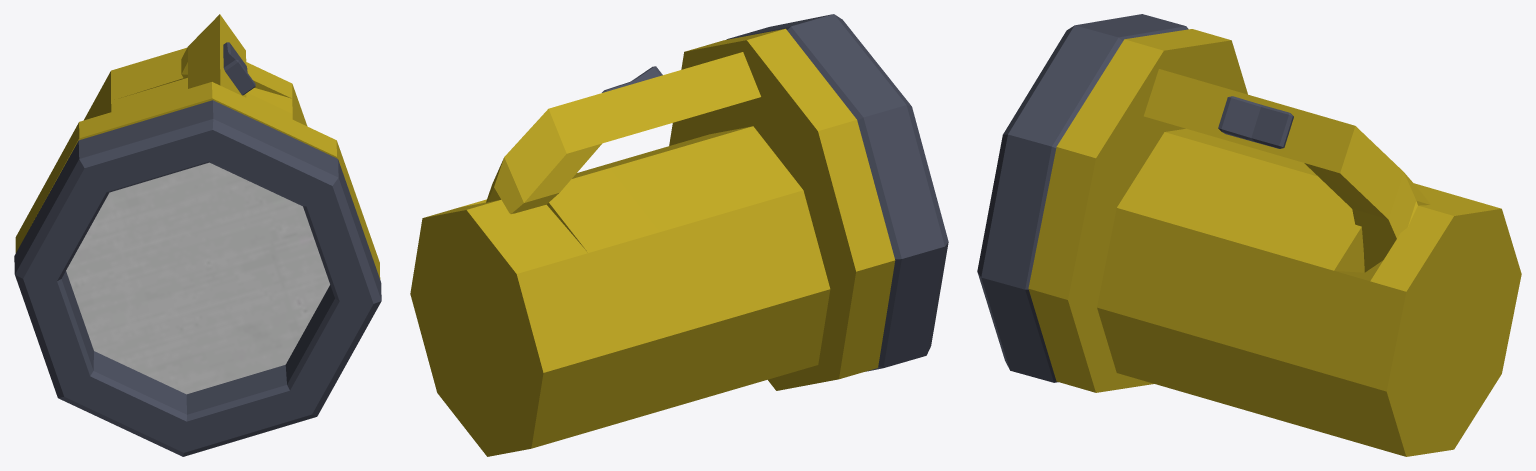
The model's file is low-poly_flashlight.glb.
3 renders of one model, left to right at view 1: azimuth 30°, elevation 25°; view 2: azimuth 150°, elevation 25°; view 3: azimuth 270°, elevation 25°, orthographic. The views are drawn at different scales.
Visible parts, largest first — view 1: Rim1.002, Glass1.002, Handle1.002, Switch1.002; view 2: Handle1.002, Rim1.002; view 3: Handle1.002, Rim1.002, Switch1.002.
Part boxes in pixels (left/top/right/bottom): Rim1.002: left=14, top=100, right=381, bottom=456; Glass1.002: left=66, top=162, right=329, bottom=394; Handle1.002: left=15, top=14, right=380, bottom=279; Switch1.002: left=223, top=42, right=255, bottom=95; Handle1.002: left=410, top=28, right=895, bottom=456; Rim1.002: left=726, top=14, right=948, bottom=371; Handle1.002: left=1028, top=29, right=1521, bottom=456; Rim1.002: left=977, top=14, right=1188, bottom=382; Switch1.002: left=1218, top=96, right=1293, bottom=148.
Bounding box in the file's own units: 1.17 × 0.9074 × 1.28.
Materials: 3 (1 with a texture image).
